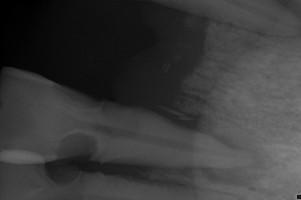Furcation Involvement: (201, 132, 272, 186)
